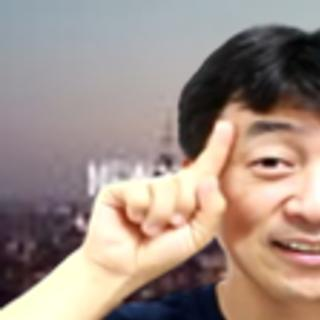IRRITATED: (79, 116, 241, 284)
